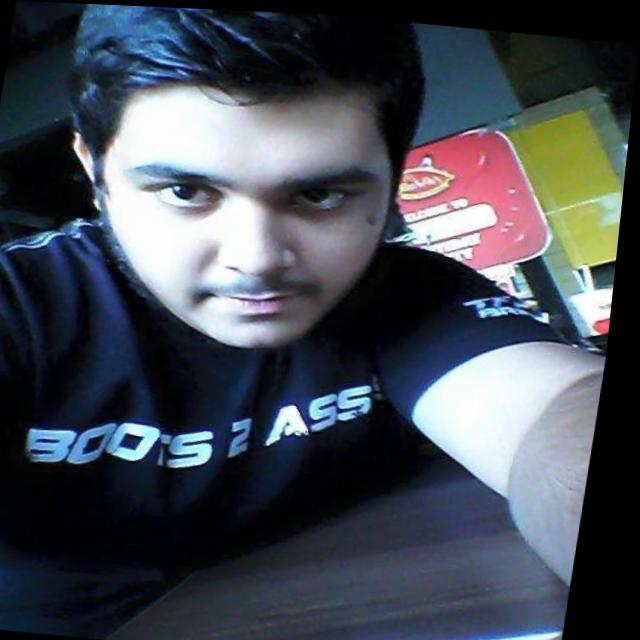Nonhelmet: (62, 5, 428, 353)
